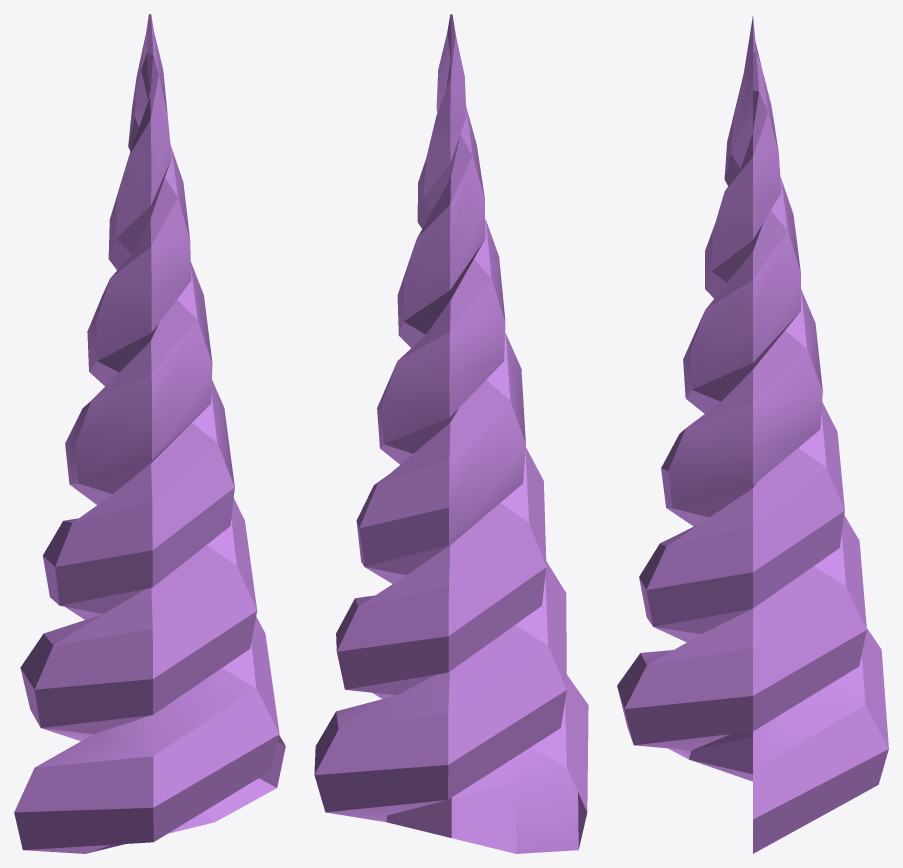
Rendered from Ingredient_UnicornHorn.fbx.
3 renders of one model, left to right at view 1: azimuth 30°, elevation 25°; view 2: azimuth 150°, elevation 25°; view 3: azimuth 270°, elevation 25°, orthographic. The views are drawn at different scales.
Parts seen in each view (by area): view 1: Plane; view 2: Plane; view 3: Plane.
Boxes of the visible parts, <box> form: Plane: <box>14,14,285,853</box>; Plane: <box>314,14,588,853</box>; Plane: <box>617,16,888,853</box>.
Bounding box in the file's own units: 62.15 × 180 × 55.63.
